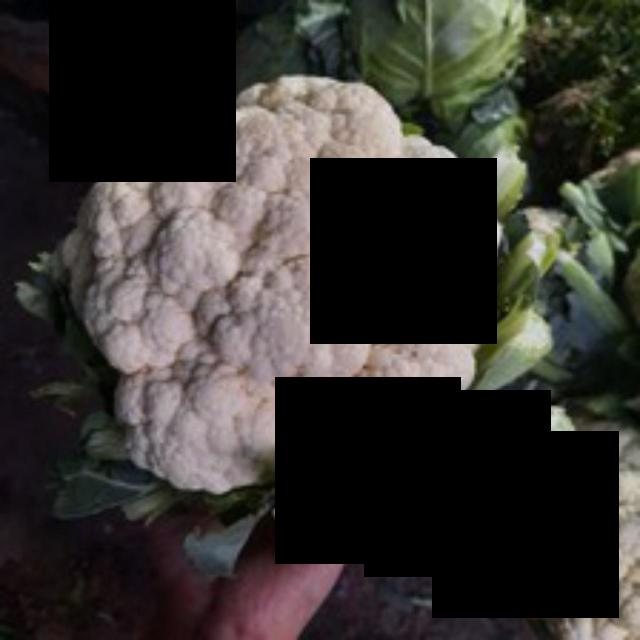cauliflower: (52, 58, 540, 563)
